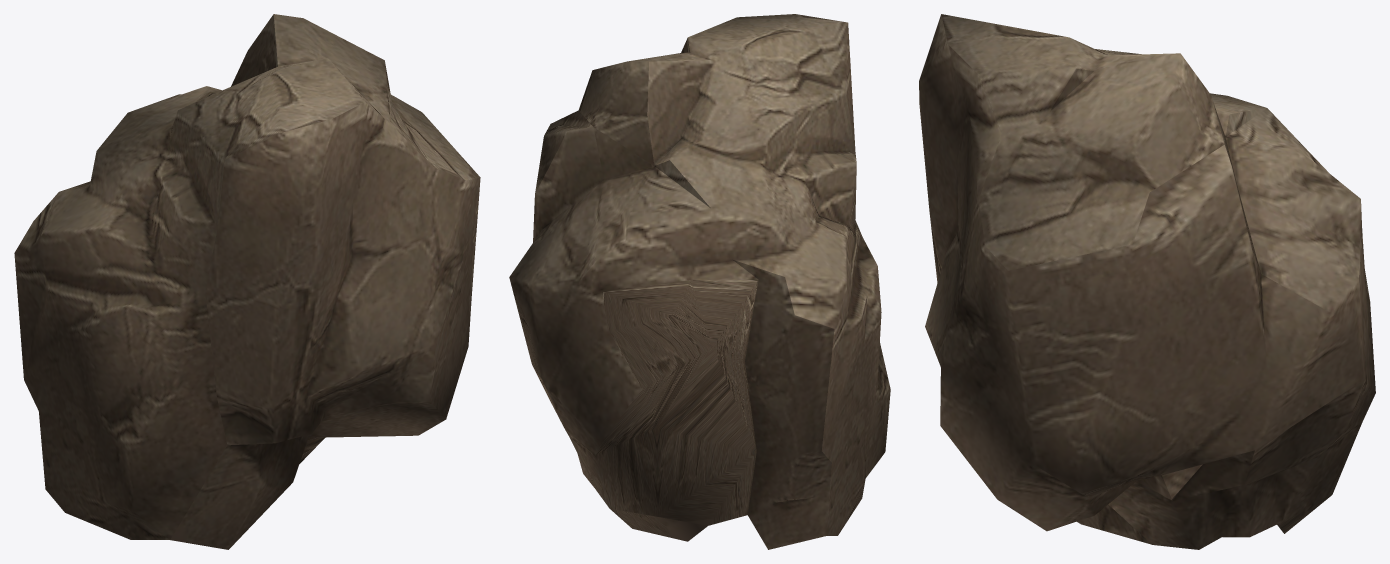
Rendered from environment_stone_qiaobi_002_c.FBX.
The picture shows the model from 3 angles, left to right: view 1: azimuth 30°, elevation 25°; view 2: azimuth 150°, elevation 25°; view 3: azimuth 270°, elevation 25°; orthographic projection. The views are drawn at different scales.
Parts seen in each view (by area): view 1: environment_stone_qiaobi_002_c; view 2: environment_stone_qiaobi_002_c; view 3: environment_stone_qiaobi_002_c.
Part boxes in pixels (bbox=[...]): environment_stone_qiaobi_002_c: bbox=[14, 14, 480, 549]; environment_stone_qiaobi_002_c: bbox=[509, 14, 890, 549]; environment_stone_qiaobi_002_c: bbox=[919, 14, 1375, 549].
Size of the model in its own units: 316 by 390 by 312.
